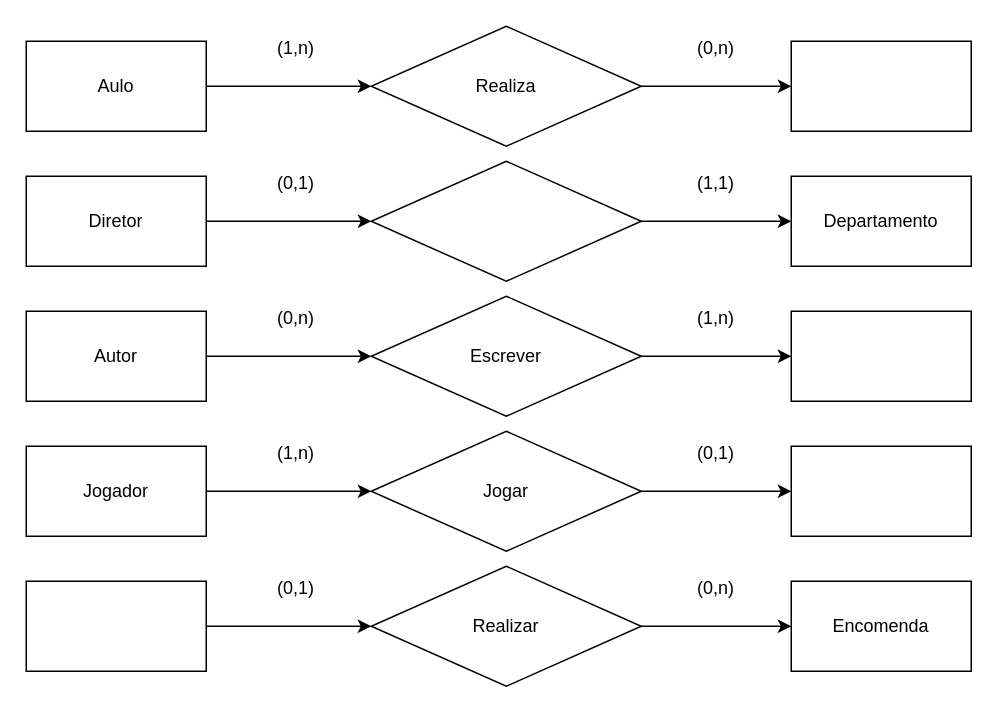
Image size: 998x713. Some labels were removed from this diagram. Here are the shapes that lost their labels. From the top down, the centre of each, then its label:
pixel 880 85: Atividade
pixel 505 220: Dirigir
pixel 880 355: Libro
pixel 880 490: Equipe
pixel 115 625: Cliente
